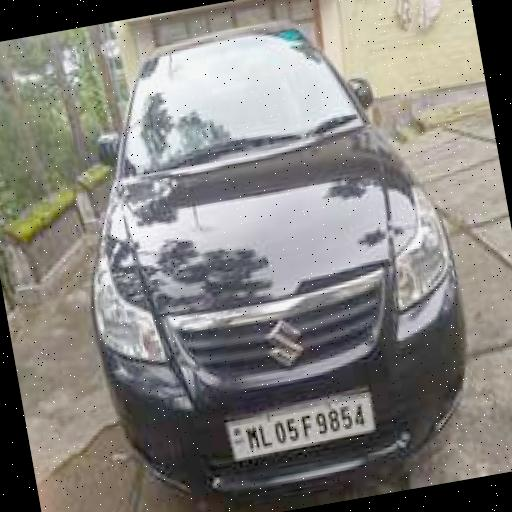license_plate`: (222, 390, 374, 459)
